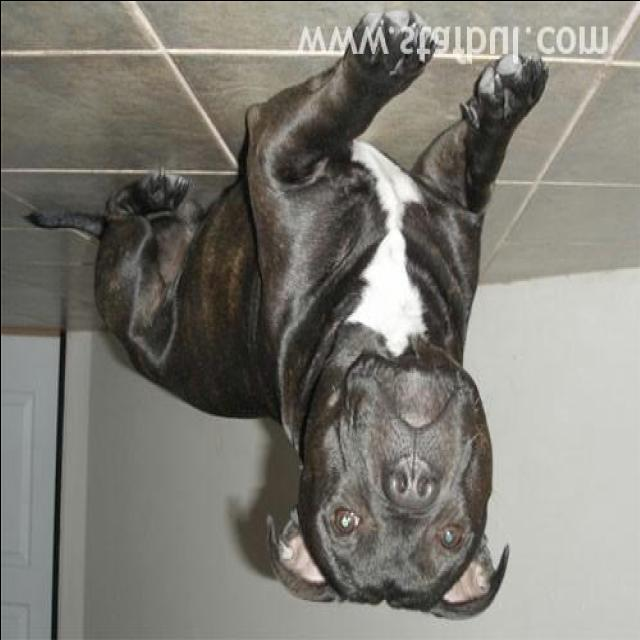staffordshire_bullterrier: (16, 7, 548, 621)
